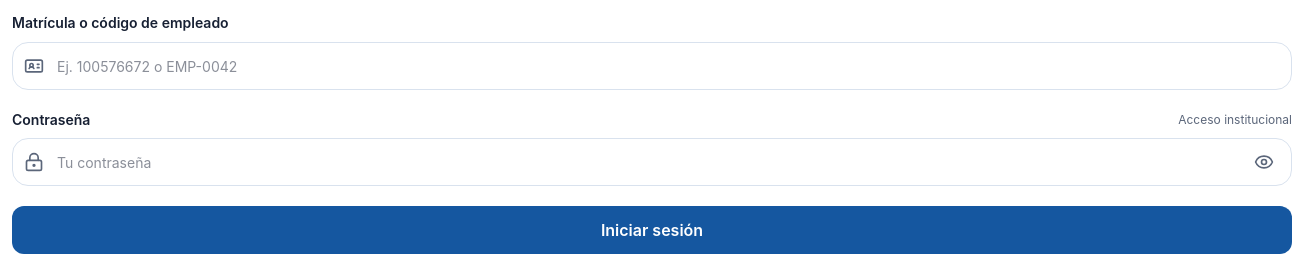
Test: LoginForm › shows and hides the password without changing its value
This screenshot has width=1304, height=271.
Type "abcde" into the password field labelled "Contraseña". click: (652, 162)
box: x1=12 y1=138 x2=1292 y2=186
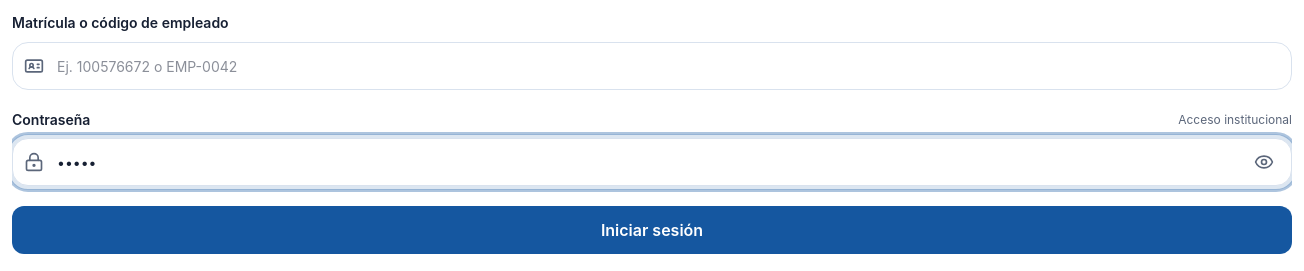
Click the button named "mostrar contraseña". click: (1264, 162)
box: x1=1248 y1=146 x2=1280 y2=178
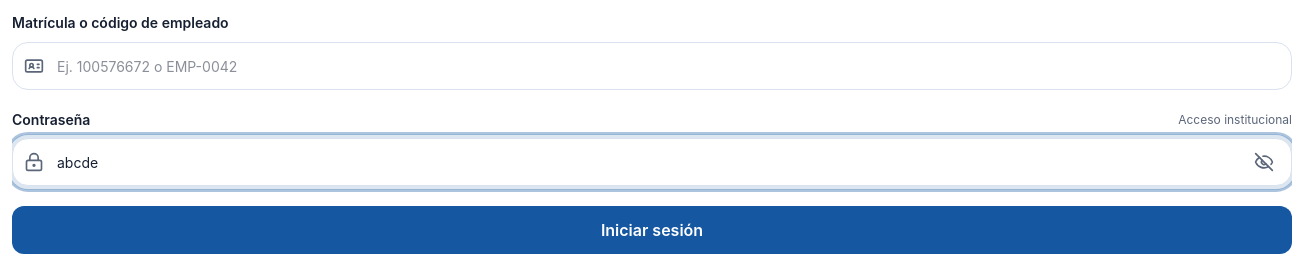
Expected: the field labelled "Contraseña" shows its text, x1=12 y1=138 x2=1292 y2=186
Click the button named "ocultar contraseña". click: (1264, 162)
box: x1=1248 y1=146 x2=1280 y2=178
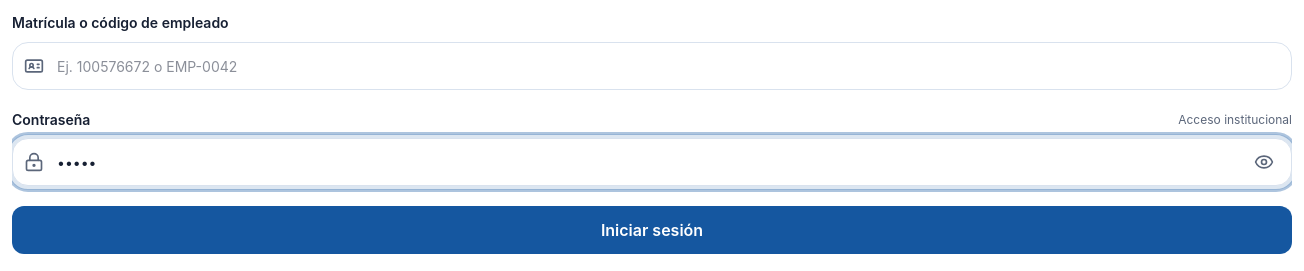
Expected: the password field labelled "Contraseña" hides its text, x1=12 y1=138 x2=1292 y2=186
